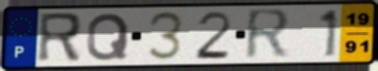1: (317, 9, 339, 59)
2: (195, 10, 234, 61)
3: (146, 9, 185, 62)
Q: (84, 11, 131, 63)
R: (243, 7, 294, 63), (35, 11, 84, 65)
